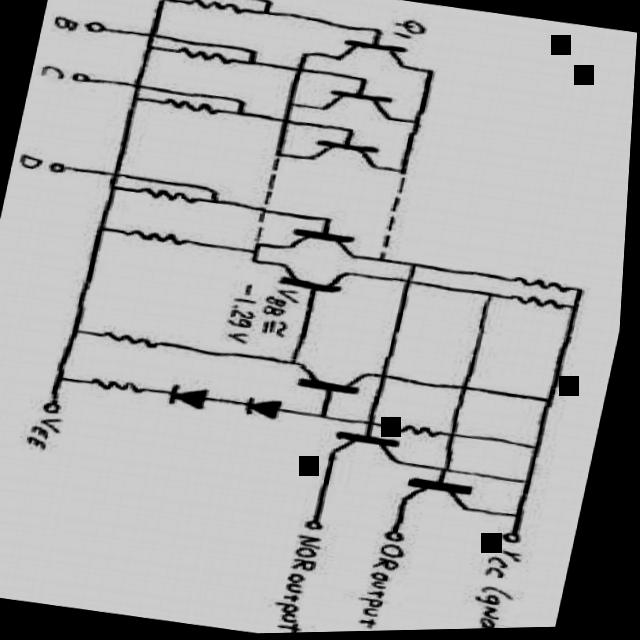diode: (155, 377, 227, 418), (233, 389, 300, 433)
resistor: (93, 324, 178, 358), (127, 223, 206, 259), (150, 92, 233, 126), (166, 43, 243, 72), (132, 182, 204, 213), (89, 372, 158, 404), (175, 0, 253, 26), (508, 273, 580, 301), (501, 291, 573, 319), (383, 415, 449, 445)
transistor: (389, 465, 509, 533), (275, 347, 387, 407), (260, 254, 380, 310), (320, 425, 435, 481), (321, 23, 421, 80), (277, 218, 374, 271), (307, 80, 409, 129), (301, 132, 394, 184)
